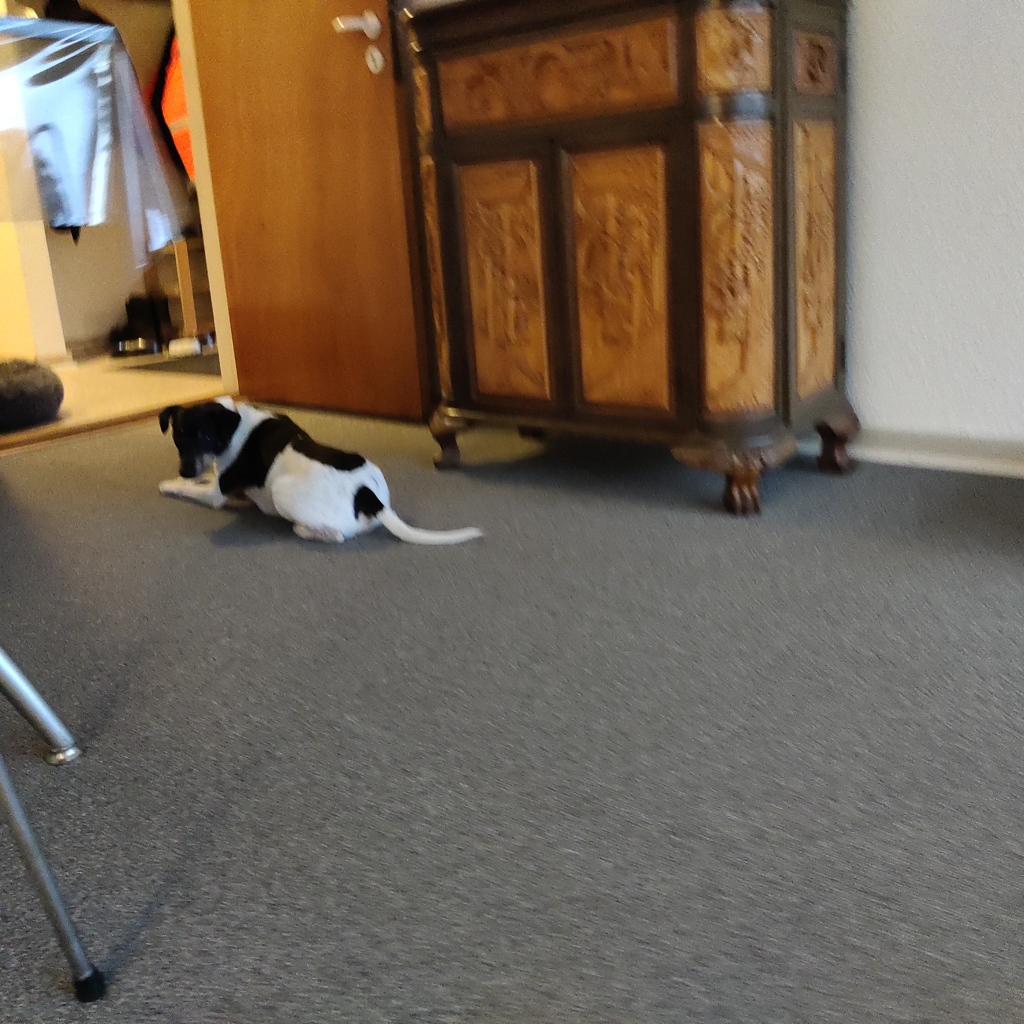Dog: (144, 379, 504, 569)
